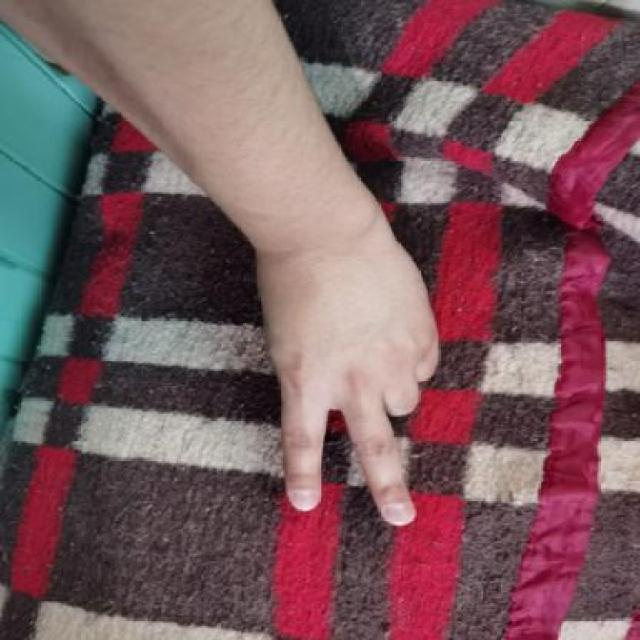N: (219, 219, 476, 536)
